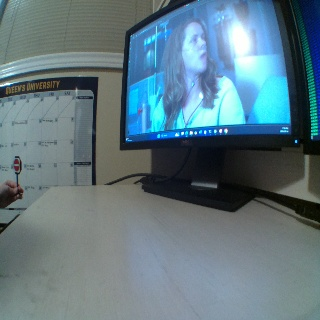sign_noentry: (12, 157, 20, 173)
